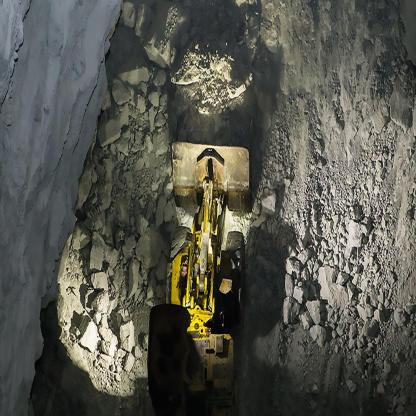bull_dozer/loader/grader: (140, 100, 266, 416)
